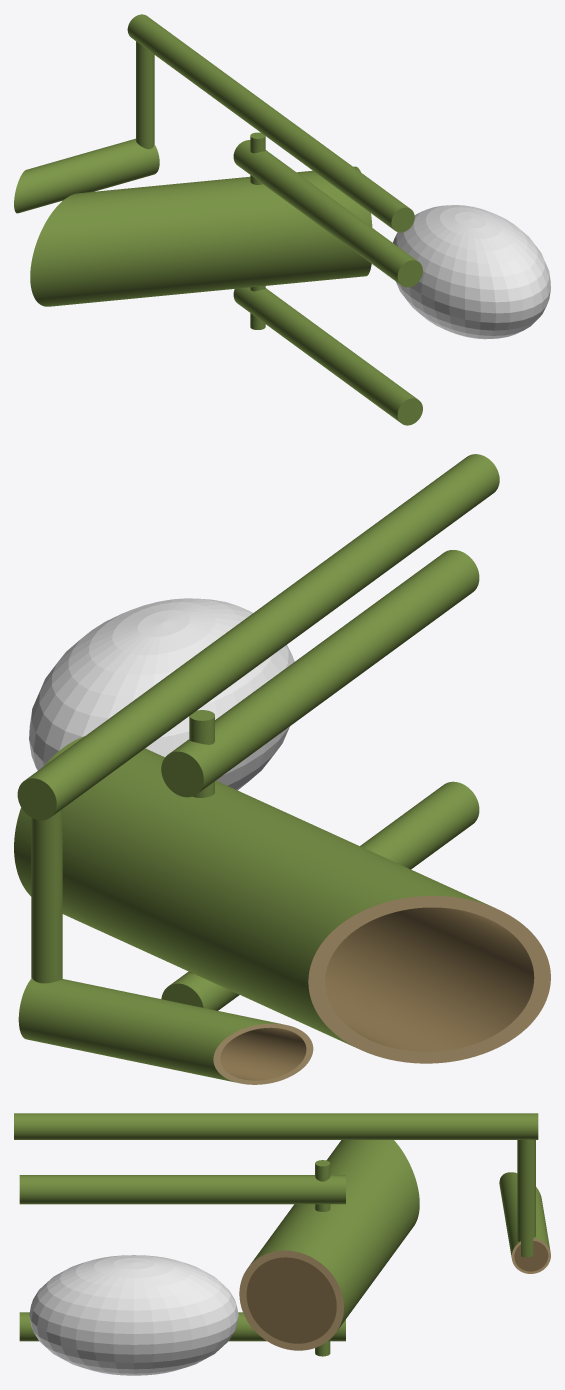
File: bamboo.glb
3 renders of one model, top to bottom at view 1: azimuth 30°, elevation 25°; view 2: azimuth 150°, elevation 25°; view 3: azimuth 270°, elevation 25°, orthographic. The views are drawn at different scales.
Visible parts, largest first — view 1: Bamboo, Return stop stone, Feeder support, Upright bamboo support.001, Upright bamboo support, Fixed feeder spout, Feeder support arm, Pivot axle; view 2: Bamboo, Feeder support, Return stop stone, Fixed feeder spout, Upright bamboo support.001, Upright bamboo support, Feeder support arm, Pivot axle; view 3: Bamboo, Return stop stone, Feeder support, Upright bamboo support.001, Fixed feeder spout, Feeder support arm, Upright bamboo support, Pivot axle.
Part boxes in pixels (<box>): Bamboo: <box>30,166,372,306</box>; Return stop stone: <box>393,205,550,339</box>; Feeder support: <box>127,14,414,232</box>; Upright bamboo support.001: <box>233,140,422,287</box>; Upright bamboo support: <box>233,287,422,425</box>; Fixed feeder spout: <box>14,138,159,213</box>; Feeder support arm: <box>136,41,154,149</box>; Pivot axle: <box>250,132,265,329</box>; Bamboo: <box>14,736,550,1063</box>; Feeder support: <box>17,454,499,820</box>; Return stop stone: <box>29,598,294,790</box>; Fixed feeder spout: <box>18,978,313,1084</box>; Upright bamboo support.001: <box>161,550,479,797</box>; Upright bamboo support: <box>161,781,479,1010</box>; Feeder support arm: <box>31,809,62,983</box>; Pivot axle: <box>189,710,214,973</box>; Bamboo: <box>239,1140,419,1350</box>; Return stop stone: <box>29,1255,238,1375</box>; Feeder support: <box>14,1113,538,1139</box>; Upright bamboo support.001: <box>19,1175,345,1204</box>; Fixed feeder spout: <box>499,1172,550,1273</box>; Feeder support arm: <box>517,1139,535,1257</box>; Upright bamboo support: <box>19,1312,345,1341</box>; Pivot axle: <box>315,1160,330,1356</box>.
Bounding box in the file's own units: 39.05 × 22.15 × 46.1.
